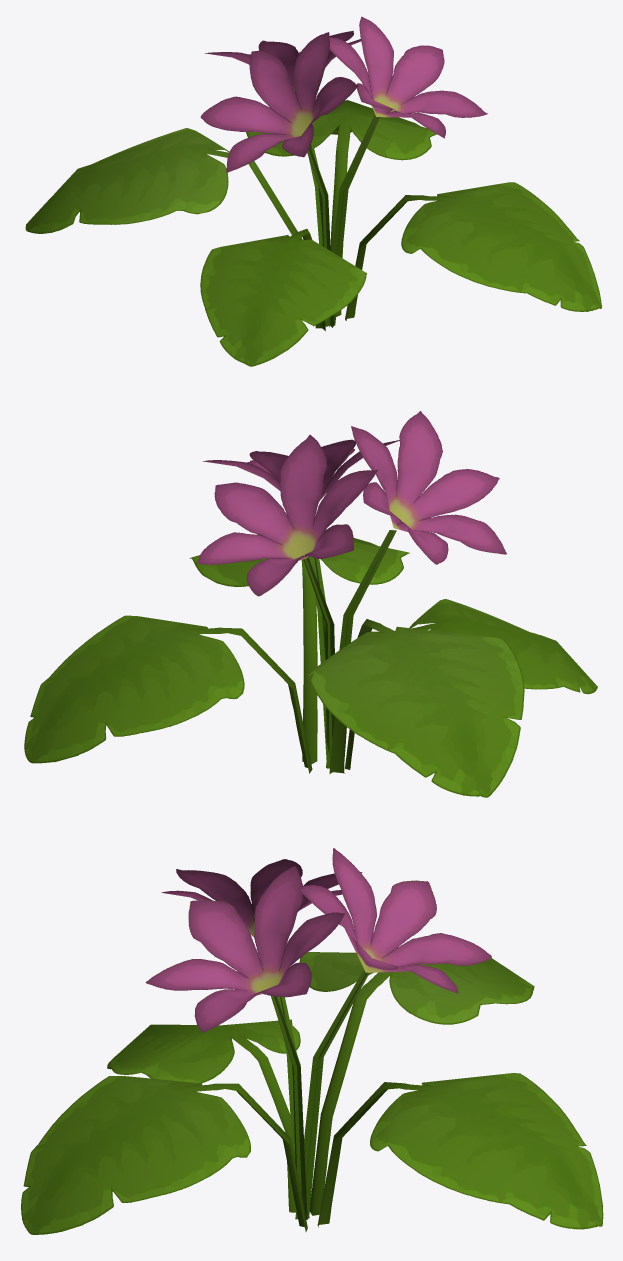
File: SM_flower_03.glb
The picture shows the model from 3 angles, top to bottom: view 1: azimuth 30°, elevation 25°; view 2: azimuth 150°, elevation 25°; view 3: azimuth 270°, elevation 25°; orthographic projection. The views are drawn at different scales.
Visible parts, largest first — view 1: SM_flower_03; view 2: SM_flower_03; view 3: SM_flower_03.
Boxes of the visible parts, left/top/right/bottom form: SM_flower_03: left=25, top=16, right=601, bottom=366; SM_flower_03: left=24, top=411, right=597, bottom=797; SM_flower_03: left=21, top=848, right=603, bottom=1234.
Size of the model in its own units: 0.9998 by 0.7071 by 1.07.
2 materials, 2 textured.
